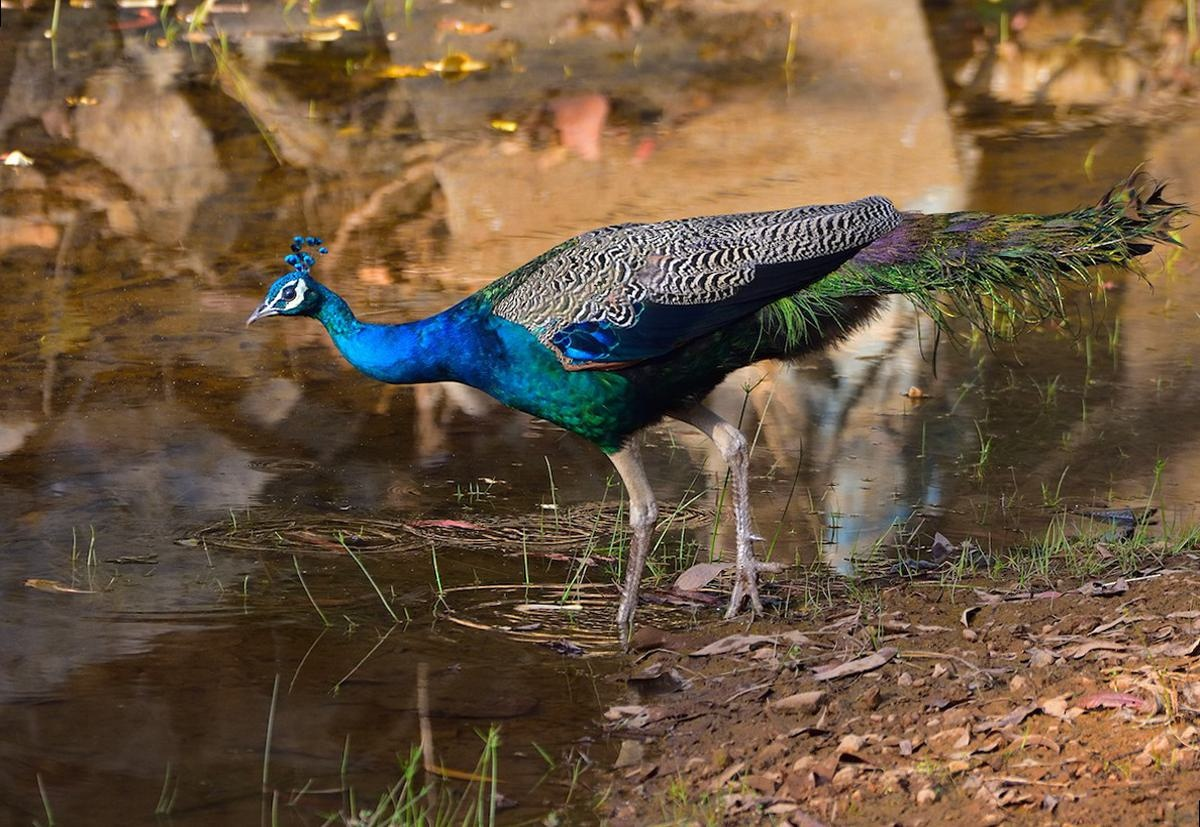peacock: (249, 149, 1096, 585)
